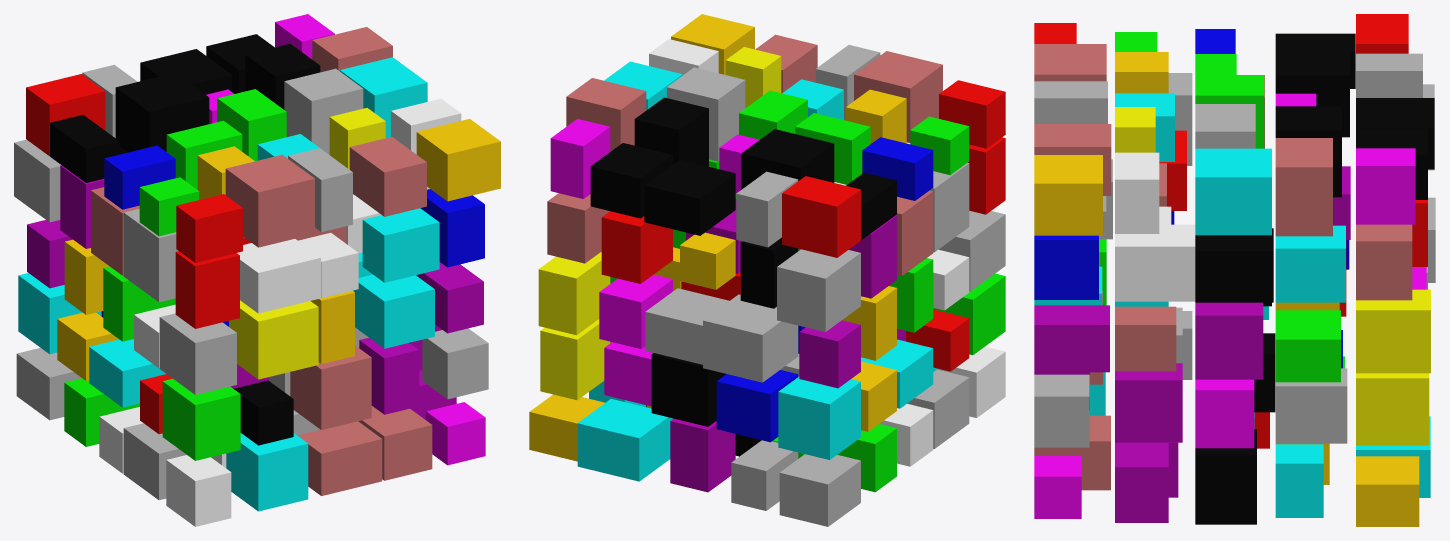
The model's file is boxes_merged.glb.
3 renders of one model, left to right at view 1: azimuth 30°, elevation 25°; view 2: azimuth 150°, elevation 25°; view 3: azimuth 270°, elevation 25°, orthographic. The views are drawn at different scales.
Parts seen in each view (by area): view 1: world; view 2: world; view 3: world.
Boxes of the visible parts, bbox=[...] form: world: bbox=[14, 14, 500, 526]; world: bbox=[529, 14, 1005, 526]; world: bbox=[1034, 14, 1435, 526].
Bounding box in the file's own units: 4.87 × 4.95 × 4.99.
